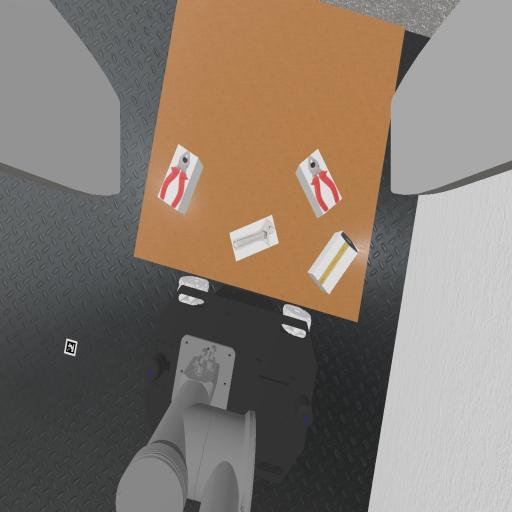hammer: (320, 234, 358, 284)
pliers: (308, 157, 340, 212), (160, 152, 189, 207)
wrench: (233, 219, 274, 250)
